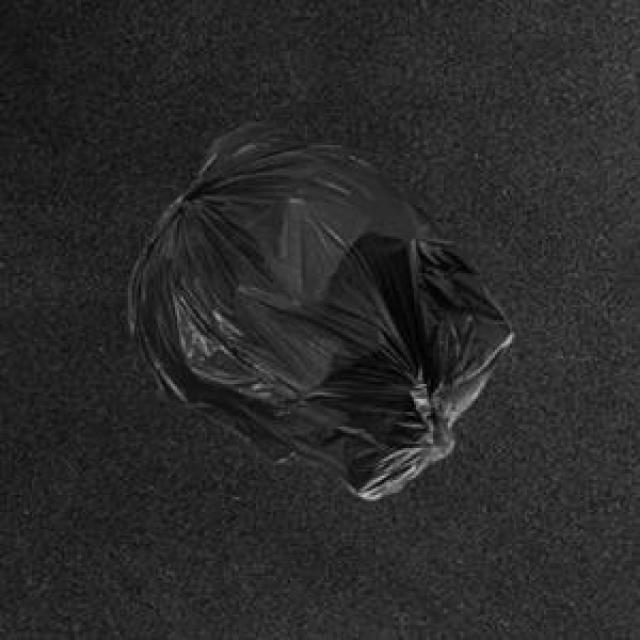miscellaneous trash: (126, 122, 506, 495)
